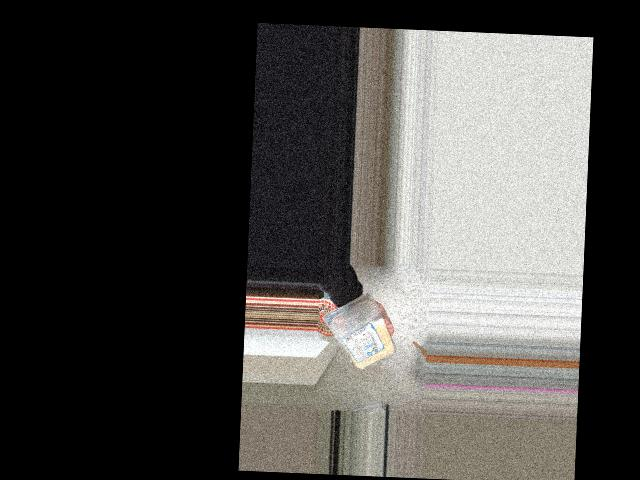cheese: (327, 299, 392, 373)
